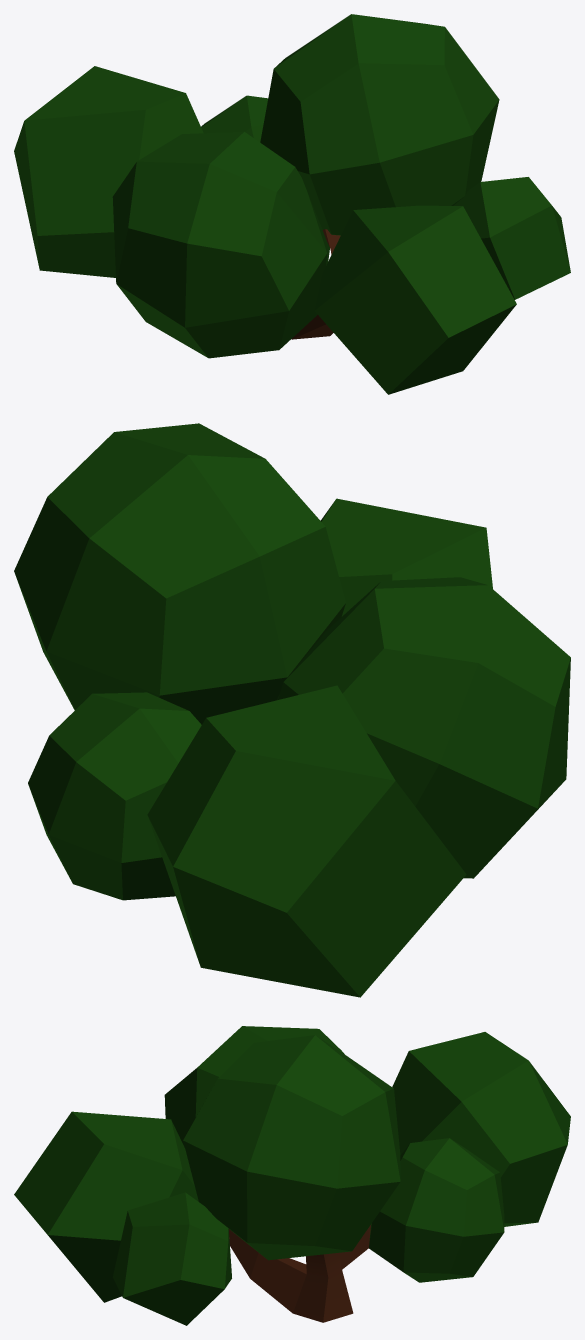
File: Bush 001.FBX
3 renders of one model, top to bottom at view 1: azimuth 30°, elevation 25°; view 2: azimuth 150°, elevation 25°; view 3: azimuth 270°, elevation 25°, orthographic. The views are drawn at different scales.
Visible parts, largest first — view 1: Bush 002; view 2: Bush 002; view 3: Bush 002.
Boxes of the visible parts, x1,y1,x2,y2 form: Bush 002: [14, 14, 570, 394]; Bush 002: [14, 423, 570, 997]; Bush 002: [14, 1026, 570, 1325].
Bounding box in the file's own units: 1.26 × 0.9224 × 1.58.
